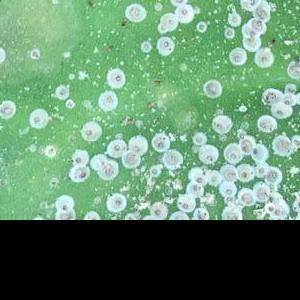Femea: (199, 148, 217, 163), (157, 19, 179, 31), (151, 135, 168, 150), (98, 93, 114, 108), (129, 140, 145, 155), (225, 145, 238, 163), (232, 50, 247, 65), (29, 112, 45, 126), (271, 105, 286, 119), (237, 166, 251, 181), (80, 125, 96, 138), (72, 153, 89, 165), (108, 141, 123, 154), (211, 118, 226, 131), (237, 138, 250, 153), (178, 6, 191, 20), (205, 82, 219, 95), (157, 40, 172, 52), (194, 132, 209, 144), (251, 147, 266, 159), (108, 72, 121, 85), (254, 162, 266, 176), (282, 93, 294, 106), (198, 21, 207, 32), (225, 27, 232, 37)
